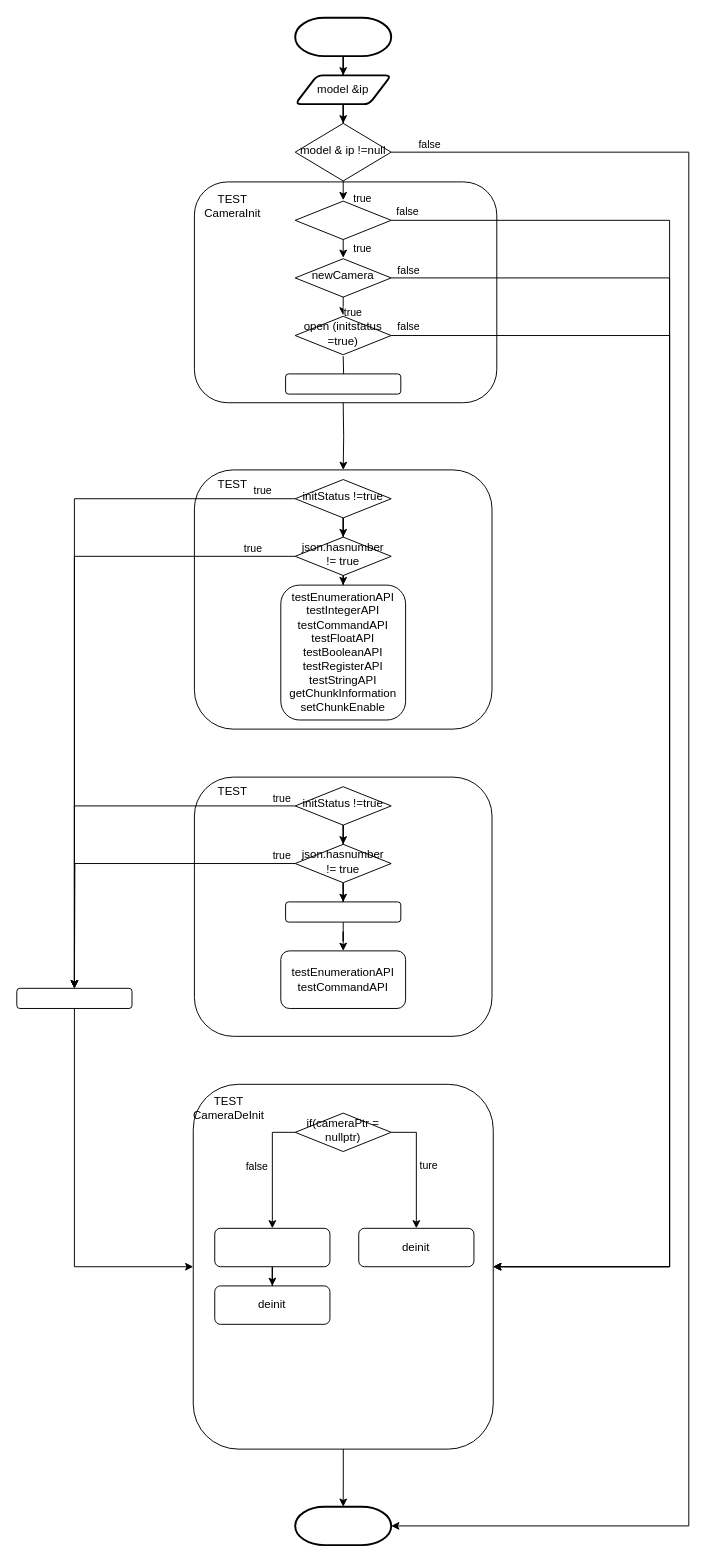
Some shapes in this 713 by 1562 pixel diagram are drawn without their labels. Here are the shapes that lost their labels. From the top down, the centre of each, then its label:
At point (343, 36): "Start main".
At point (342, 220): "init".
At point (343, 383): "load json Document".
At point (343, 911): "preset".
At point (74, 997): "GTEST_SKIP()".
At point (272, 1247): "close".
At point (343, 1525): "End main".
